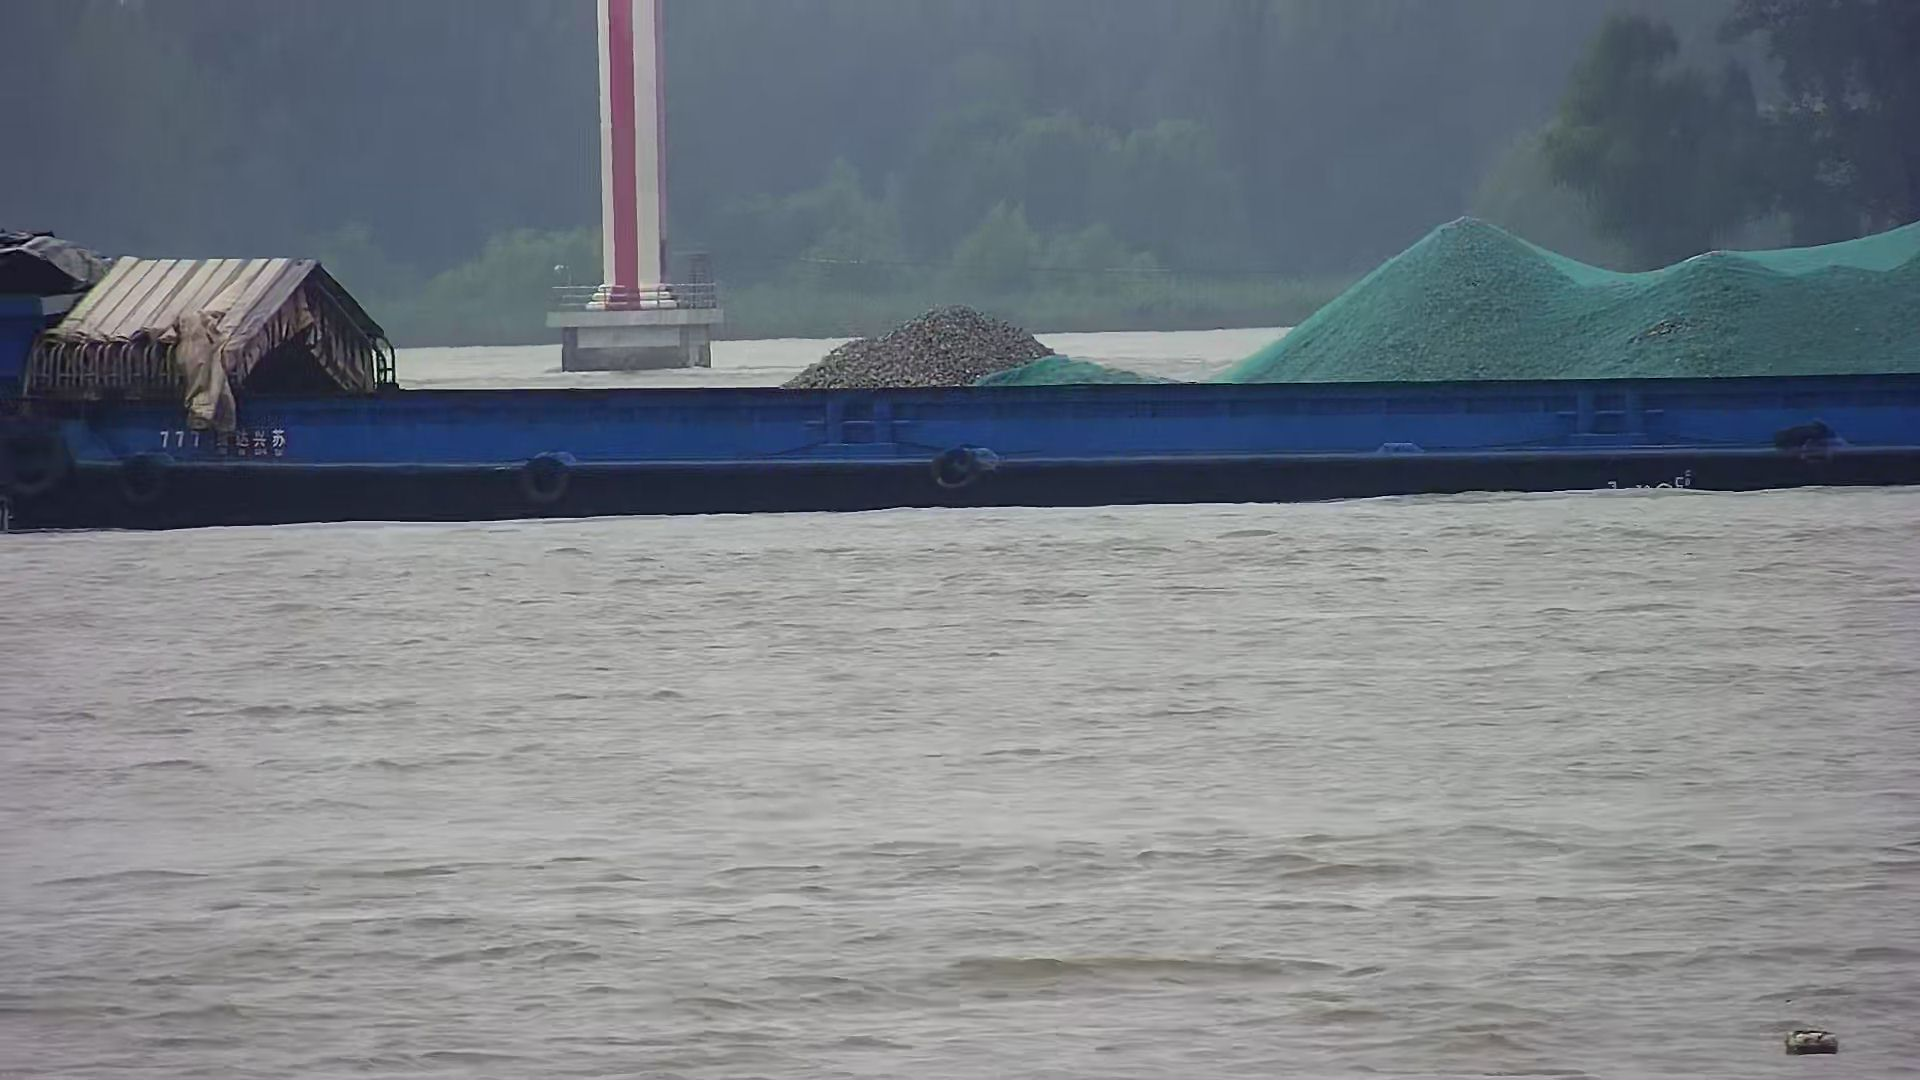platform: (543, 3, 725, 369)
rubbish: (1783, 1025, 1840, 1058)
ship: (1, 216, 1920, 533)
